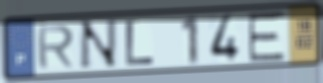1: (179, 14, 202, 67)
4: (207, 11, 243, 66)
E: (246, 9, 289, 64)
L: (123, 19, 158, 68)
N: (76, 17, 120, 72)
R: (35, 24, 76, 71)
